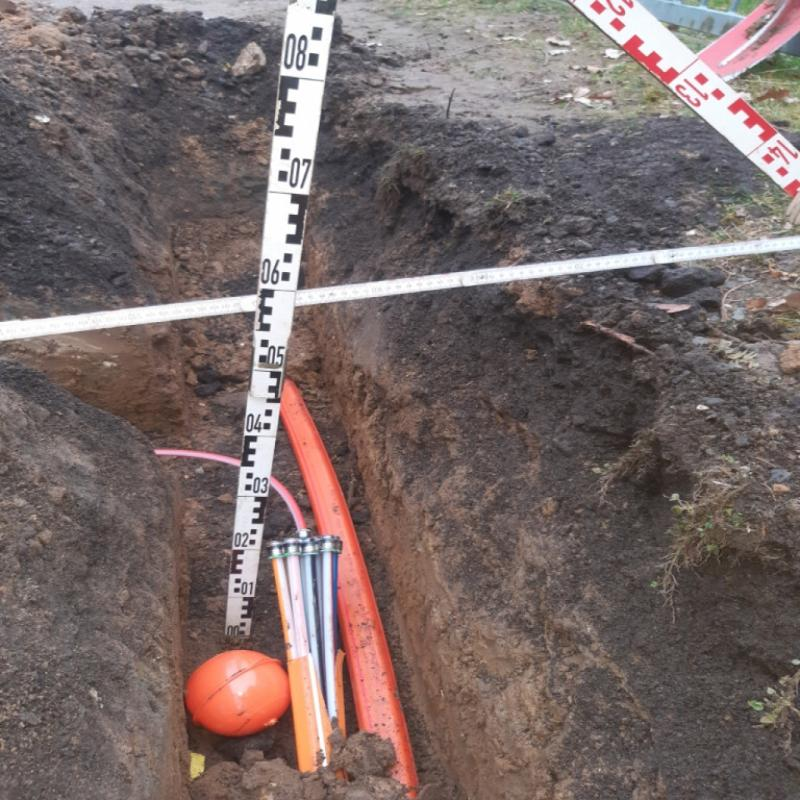Kugelmarker: (183, 649, 291, 735)
Orang-Speednetrohrchen: (280, 382, 416, 786), (265, 527, 351, 771)
